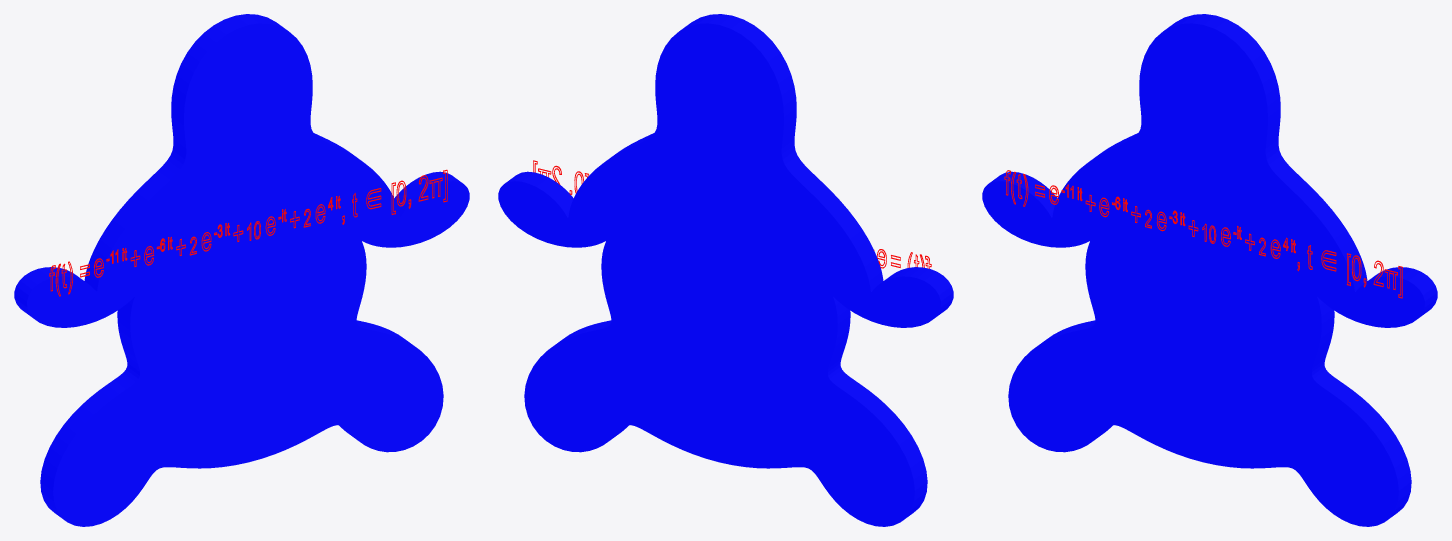
The model's file is kuFn.glb.
3 views of the same model, side by side, from view 1: azimuth 30°, elevation 25°; view 2: azimuth 150°, elevation 25°; view 3: azimuth 330°, elevation 25° (orthographic).
Bounding box in the file's own units: 1 × 1 × 0.0513.
